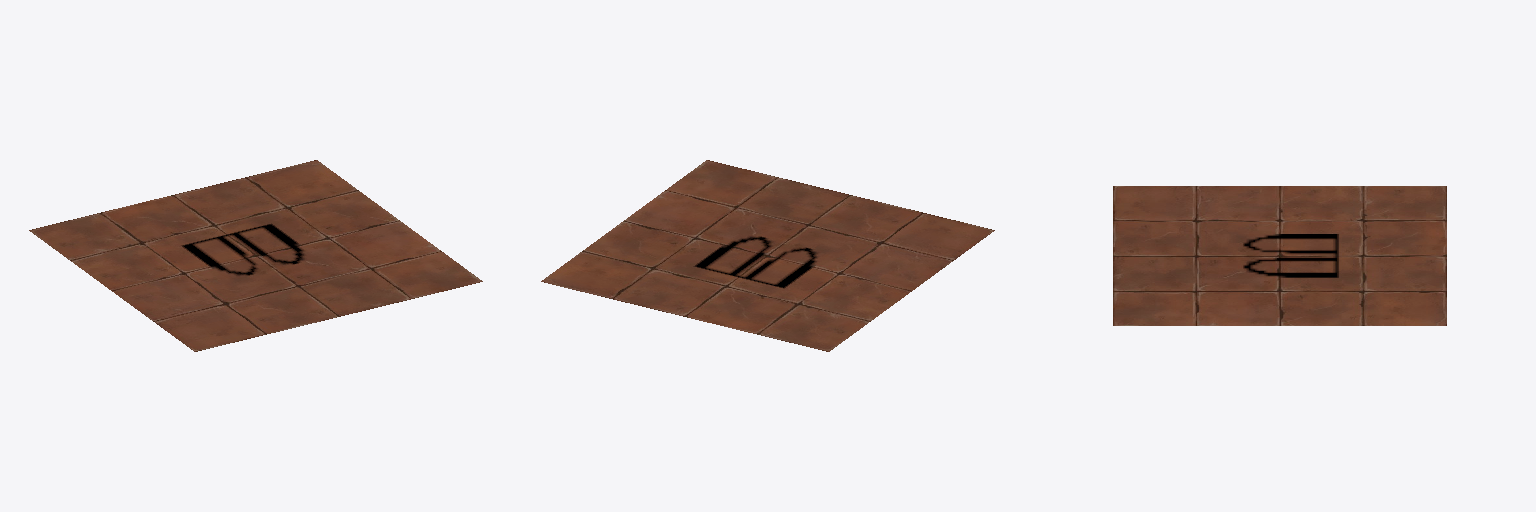
3 views of the same model, side by side, from view 1: azimuth 30°, elevation 25°; view 2: azimuth 150°, elevation 25°; view 3: azimuth 270°, elevation 25° (orthographic).
Visible parts, largest first — view 1: pPlane1; view 2: pPlane1; view 3: pPlane1.
Part boxes in pixels (x1,y1,x2,y2): pPlane1: (29,160,482,351); pPlane1: (541,160,994,351); pPlane1: (1113,186,1446,325).
Size of the model in its own units: 8 by 0 by 8.
1 materials, 1 textured.